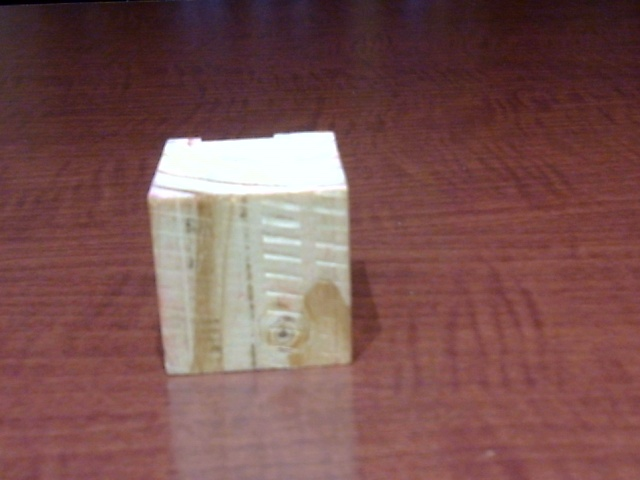NormalBlock: (145, 198, 360, 376)
